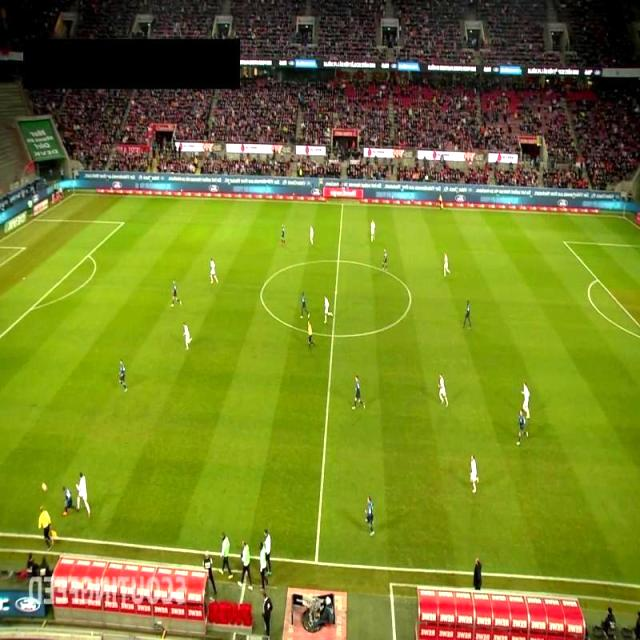bigarea_top_inner: (558, 237, 568, 248), (118, 218, 129, 228)
bigarea_top_outter: (28, 214, 39, 226)
bottom_arc_area_intersection: (26, 303, 37, 314)
corner: (619, 210, 628, 223), (69, 189, 78, 200)
halfcircle_bottom: (328, 330, 338, 341)
halfcircle_top: (333, 256, 344, 266)
midline_bottom_intersection: (309, 554, 324, 572)
midline_top_intersection: (337, 198, 348, 209)
smallarea_top_inner: (20, 243, 30, 254)
top_arc_area_intersection: (82, 250, 94, 262), (592, 276, 605, 286)
